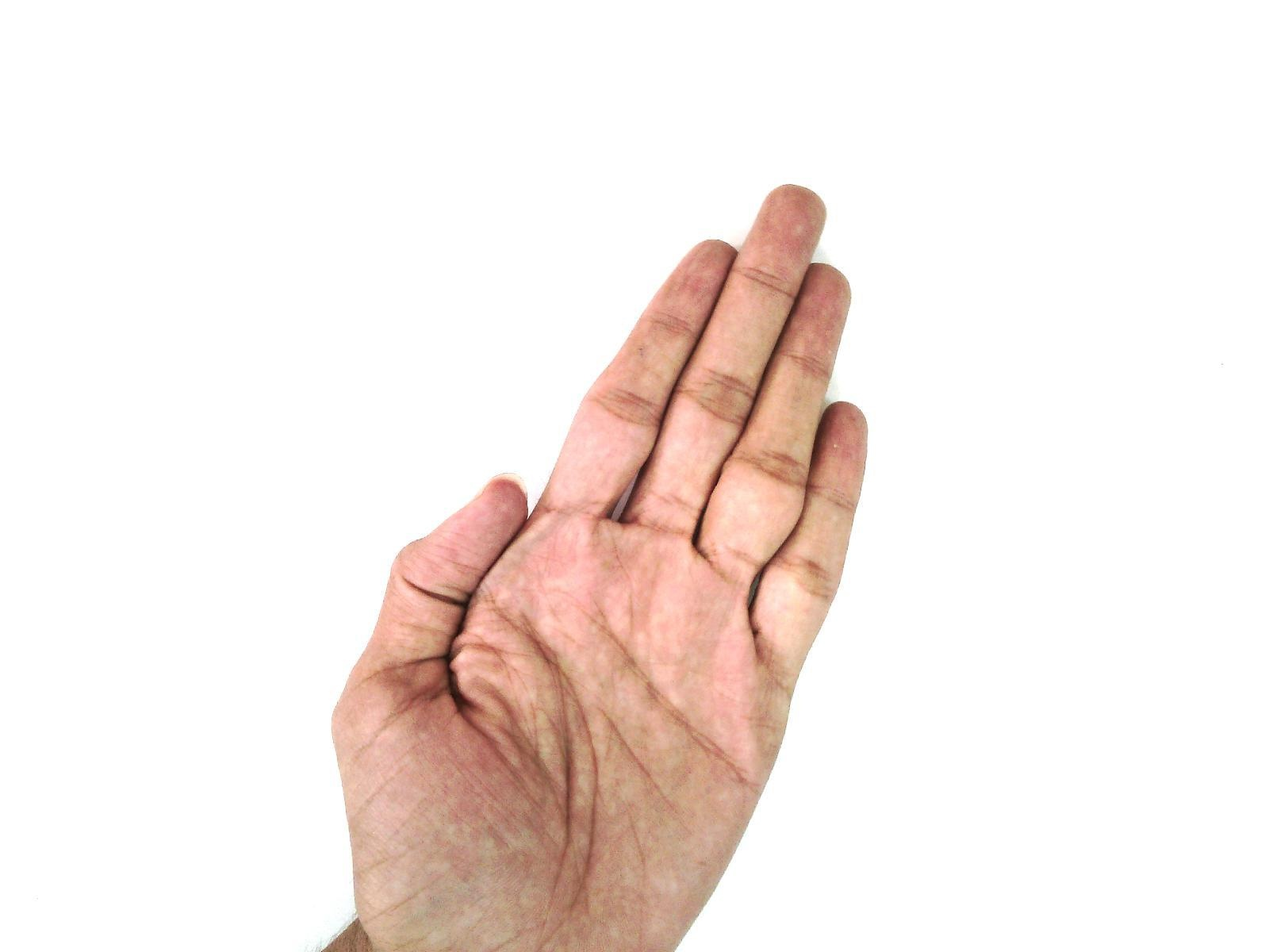open_palm: (325, 182, 872, 952)
